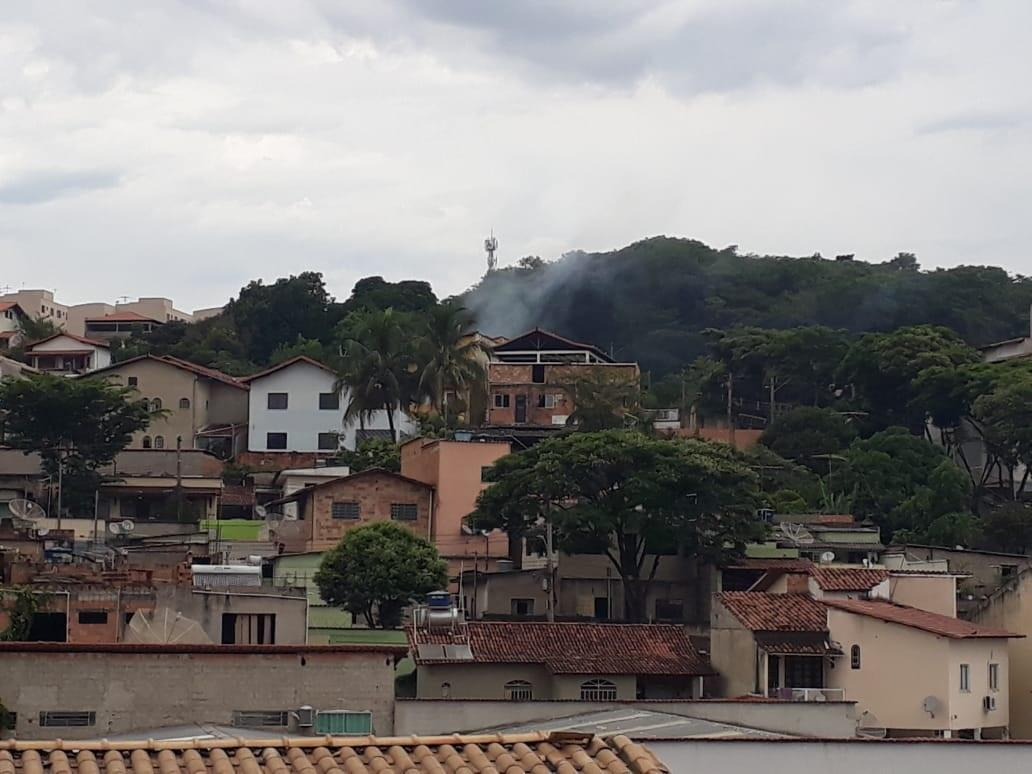smoke: (476, 280, 540, 338)
